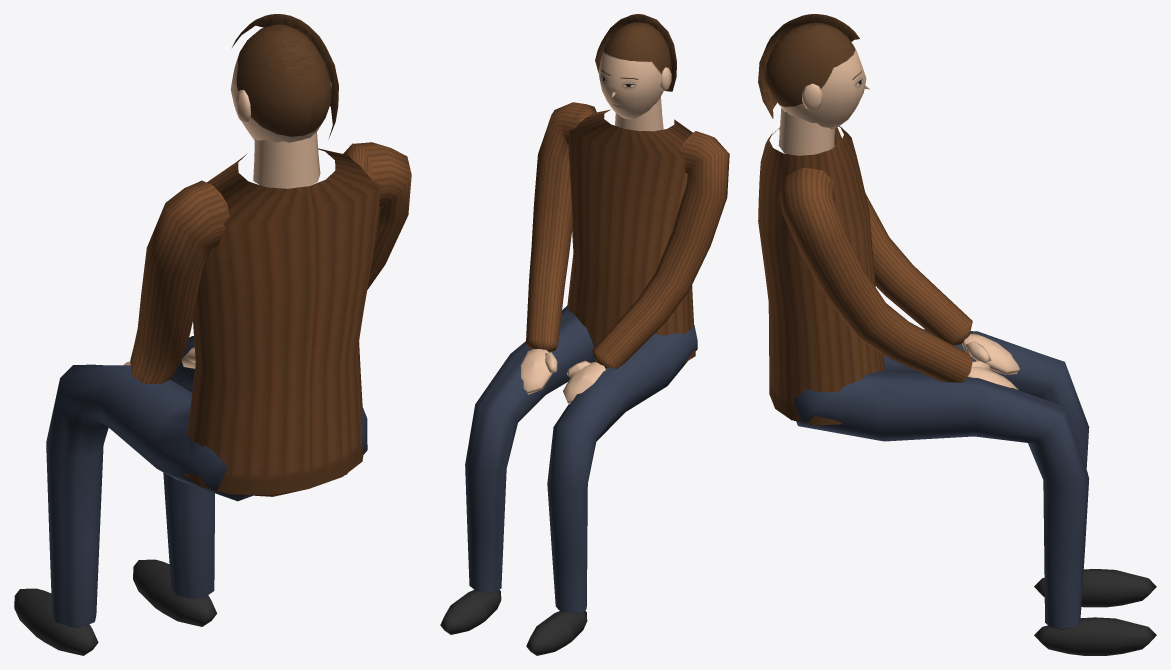
The model's file is student.glb.
3 renders of one model, left to right at view 1: azimuth 30°, elevation 25°; view 2: azimuth 150°, elevation 25°; view 3: azimuth 270°, elevation 25°, orthographic. The views are drawn at different scales.
Visible parts, largest first — view 1: Body, HeadMesh; view 2: Body, HeadMesh; view 3: Body, HeadMesh.
Boxes of the visible parts, x1,y1,x2,y2 form: Body: (14, 132, 411, 655); HeadMesh: (230, 14, 338, 142); Body: (440, 97, 729, 655); HeadMesh: (595, 14, 676, 119); Body: (758, 108, 1156, 655); HeadMesh: (758, 14, 869, 129).
Bounding box in the file's own units: 0.5197 × 1.42 × 0.836.
Materials: 1 (1 with a texture image).
